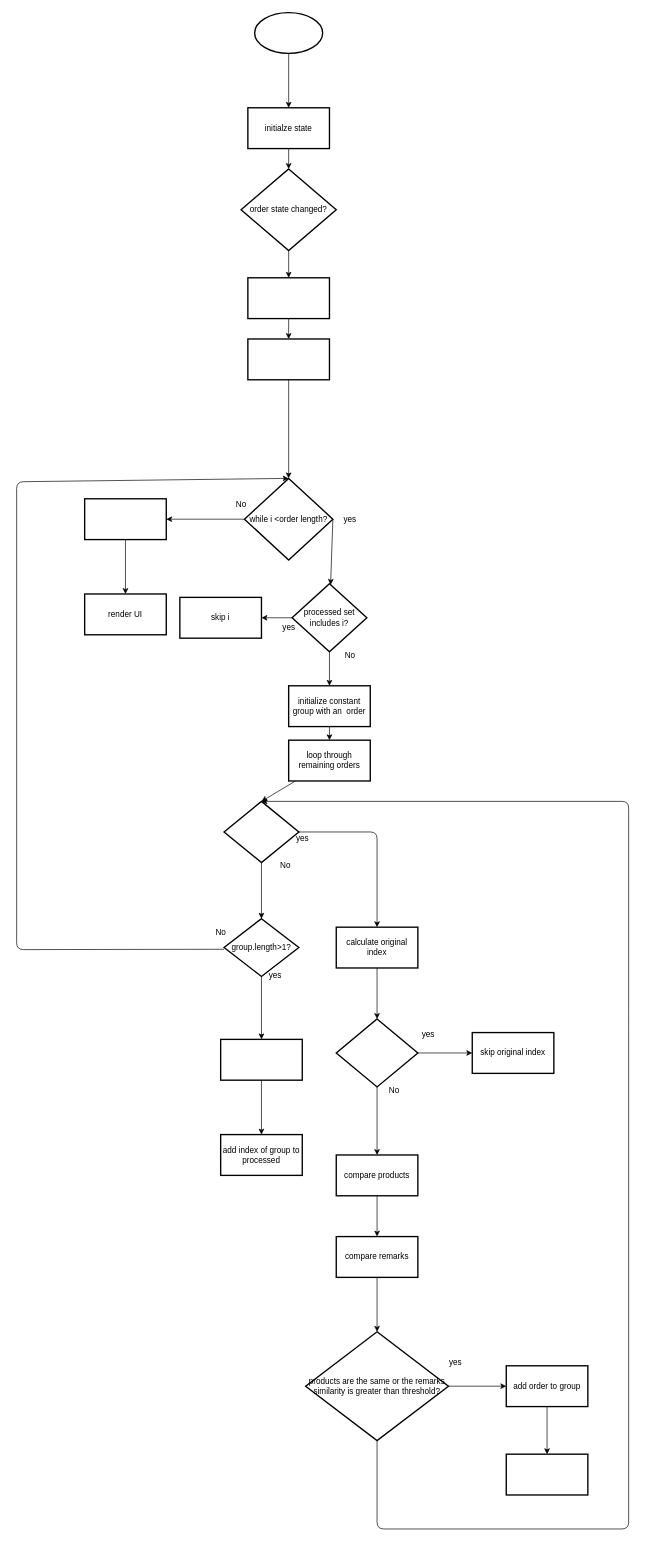
This 646x1546 diagram has some shape labels left out. Here are the shapes that lost their labels. From the top down, the box of each, then its label:
(254, 12, 323, 54): start
(247, 277, 330, 319): initialize groups array and processed set
(247, 338, 330, 380): loop through orders
(84, 498, 167, 540): Set duplicates group state with groups coontant
(223, 800, 299, 863): while i<j<orders length?
(220, 1038, 303, 1081): add group to groups
(335, 1018, 418, 1087): original index in processed ?
(505, 1453, 588, 1495): add original index to processed
